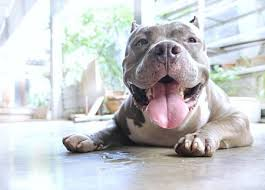Perro Pitbull: (110, 10, 234, 153)
